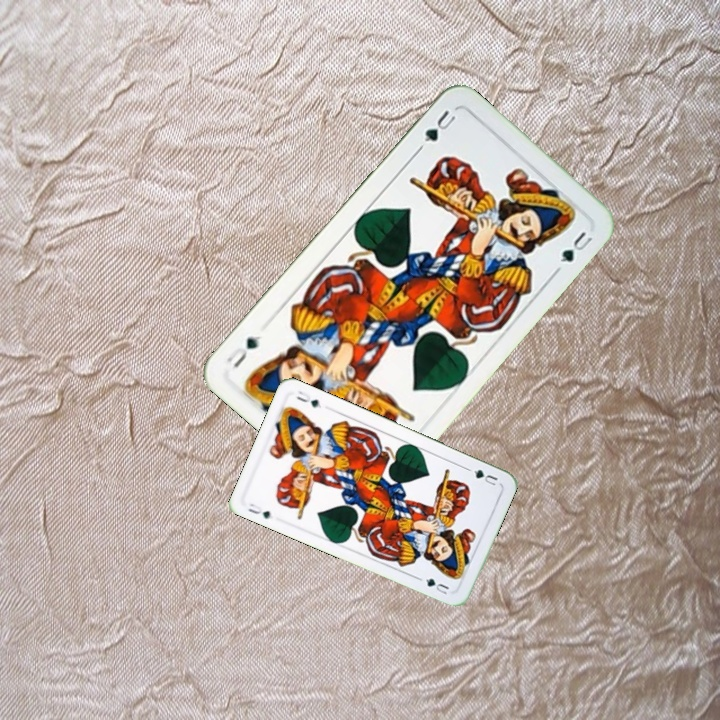GU: (414, 105, 459, 153), (463, 464, 500, 488), (244, 499, 273, 521)
